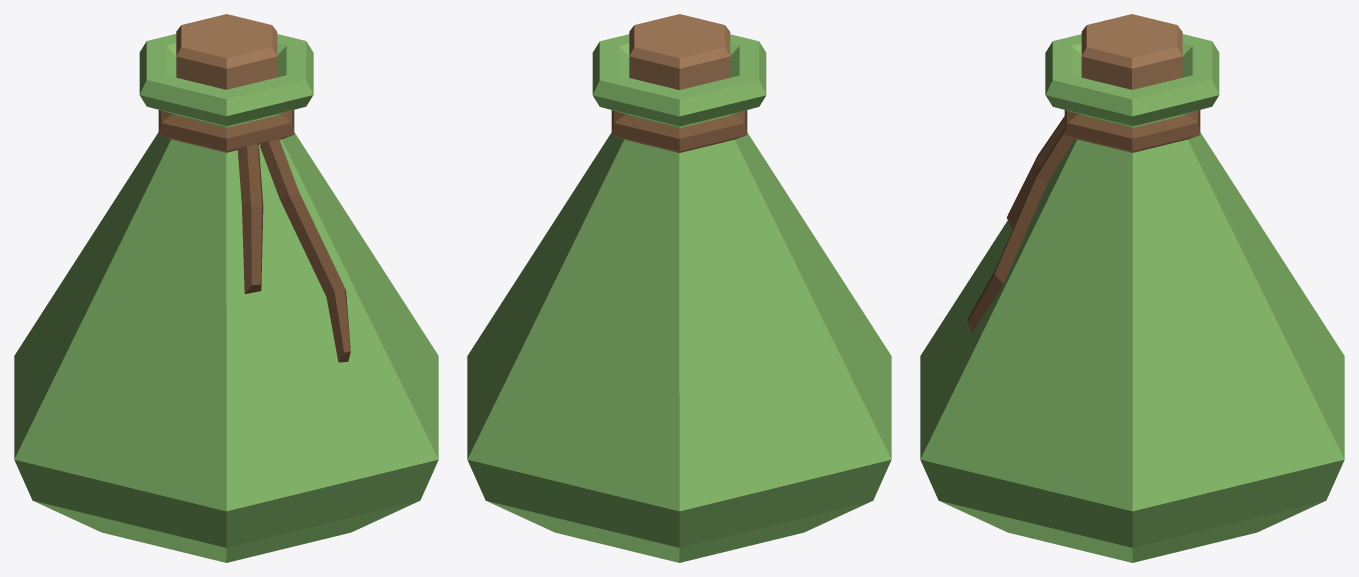
File: Green_Potion_6(String).fbx
3 renders of one model, left to right at view 1: azimuth 30°, elevation 25°; view 2: azimuth 150°, elevation 25°; view 3: azimuth 270°, elevation 25°, orthographic.
Parts seen in each view (by area): view 1: Green_Potion_6(String); view 2: Green_Potion_6(String); view 3: Green_Potion_6(String).
Boxes of the visible parts, bbox=[...] form: Green_Potion_6(String): bbox=[14, 14, 438, 562]; Green_Potion_6(String): bbox=[467, 14, 891, 562]; Green_Potion_6(String): bbox=[920, 14, 1344, 562].
Size of the model in its own units: 20.22 by 21.21 by 17.51.
